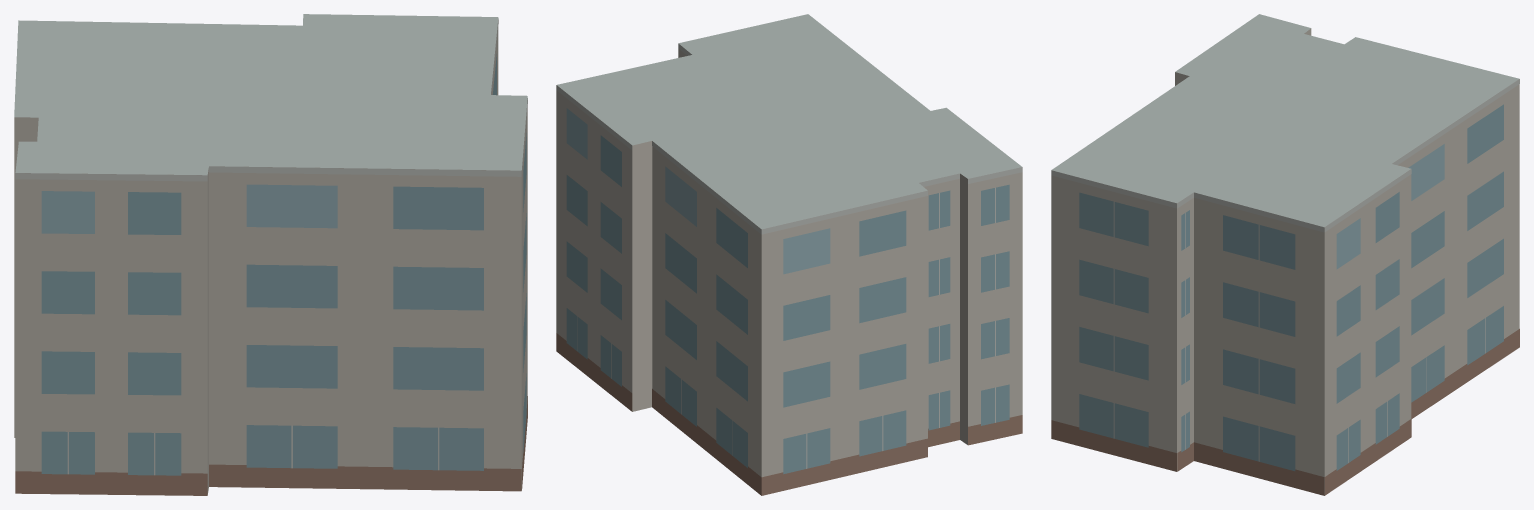
The model's file is survey-upis-32671417.glb.
3 renders of one model, left to right at view 1: azimuth 30°, elevation 25°; view 2: azimuth 150°, elevation 25°; view 3: azimuth 270°, elevation 25°, orthographic. The views are drawn at different scales.
Parts seen in each view (by area): view 1: survey-upis-32671417.tmp; view 2: survey-upis-32671417.tmp; view 3: survey-upis-32671417.tmp.
Part boxes in pixels (x1=…): survey-upis-32671417.tmp: x1=14, y1=14, x2=527, y2=495; survey-upis-32671417.tmp: x1=556, y1=14, x2=1022, y2=495; survey-upis-32671417.tmp: x1=1051, y1=14, x2=1519, y2=495.
Size of the model in its own units: 21.3 by 12.5 by 19.77.
